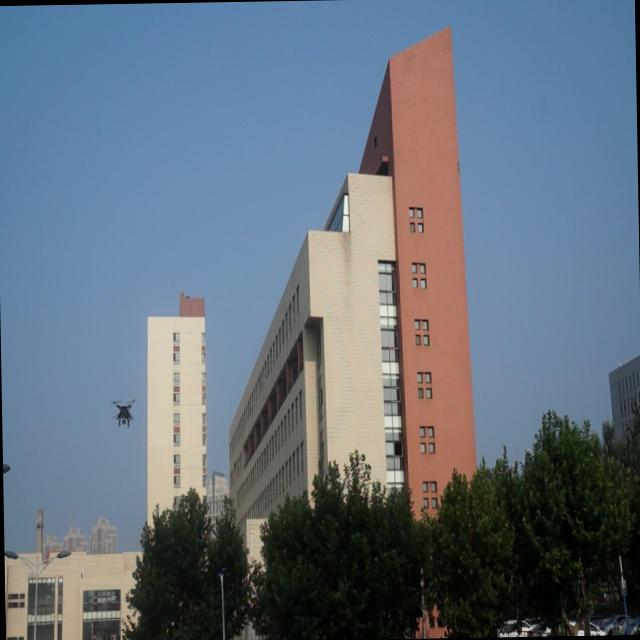drone: (109, 394, 138, 430)
